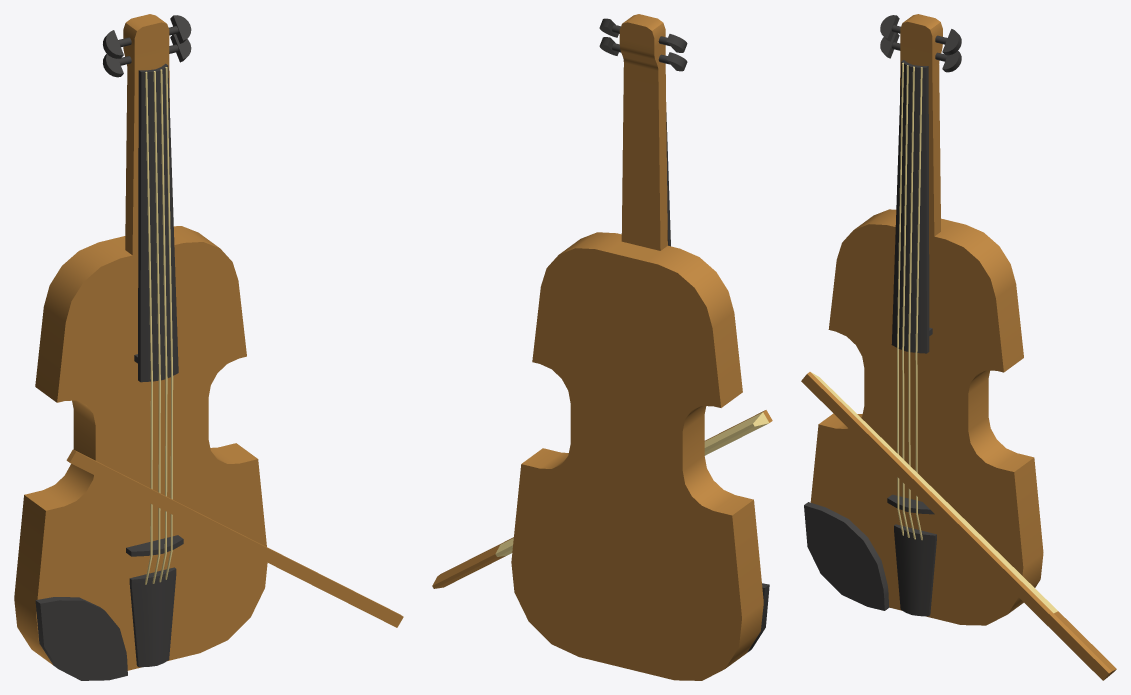
The model's file is SM_Violin.fbx.
The picture shows the model from 3 angles, left to right: view 1: azimuth 30°, elevation 25°; view 2: azimuth 150°, elevation 25°; view 3: azimuth 330°, elevation 25°; orthographic projection. The views are drawn at different scales.
Visible parts, largest first — view 1: ViolinBody, Neck, Chinrest, Bow, Foot, Sting2, String3, Sting1, String2, Ankle; view 2: ViolinBody, Bow; view 3: ViolinBody, Neck, Bow, Chinrest, Foot, Sting1, String2, Sting2, String3.
Boxes of the visible parts, x1,y1,x2,y2 form: ViolinBody: [14, 14, 267, 670]; Neck: [138, 63, 178, 382]; Chinrest: [35, 597, 127, 680]; Bow: [66, 449, 403, 627]; Foot: [129, 567, 176, 667]; Sting2: [152, 71, 160, 583]; String3: [145, 71, 152, 584]; Sting1: [159, 69, 167, 582]; String2: [165, 67, 173, 579]; Ankle: [126, 535, 183, 556]; ViolinBody: [511, 14, 763, 680]; Bow: [432, 410, 772, 588]; ViolinBody: [810, 14, 1043, 625]; Neck: [891, 60, 929, 353]; Bow: [801, 372, 1116, 680]; Chinrest: [804, 502, 889, 610]; Foot: [894, 524, 936, 616]; Sting1: [908, 66, 915, 539]; String2: [915, 67, 922, 540]; Sting2: [902, 65, 909, 537]; String3: [897, 62, 903, 535].
Size of the model in its own units: 12.79 by 22.62 by 2.76.
